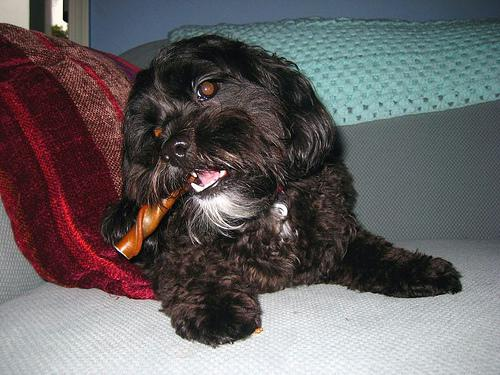dog-havanese: (98, 39, 334, 241)
